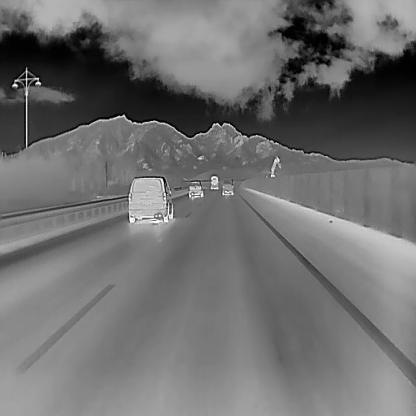car: (127, 173, 173, 223), (188, 180, 203, 198), (221, 177, 233, 195), (209, 173, 219, 189)
